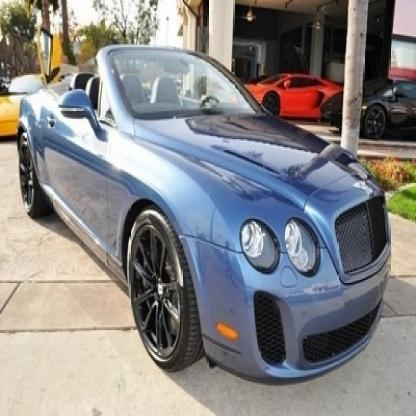Vehicle: (19, 47, 393, 386)
